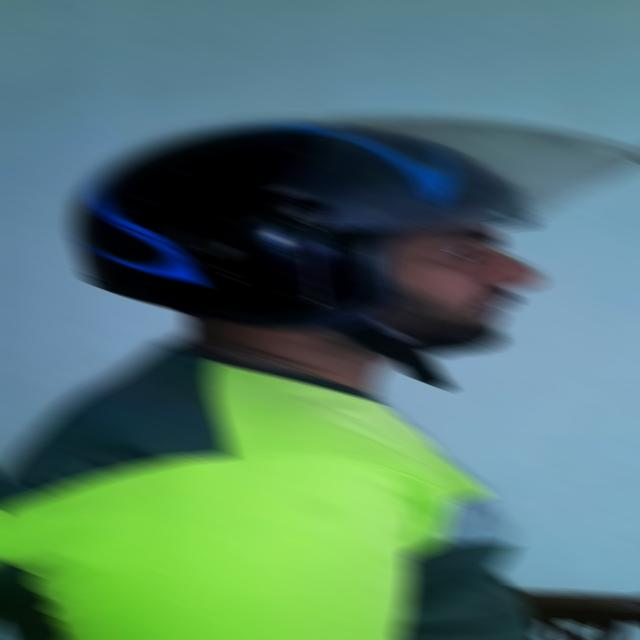With Helmet: (63, 109, 640, 329)
